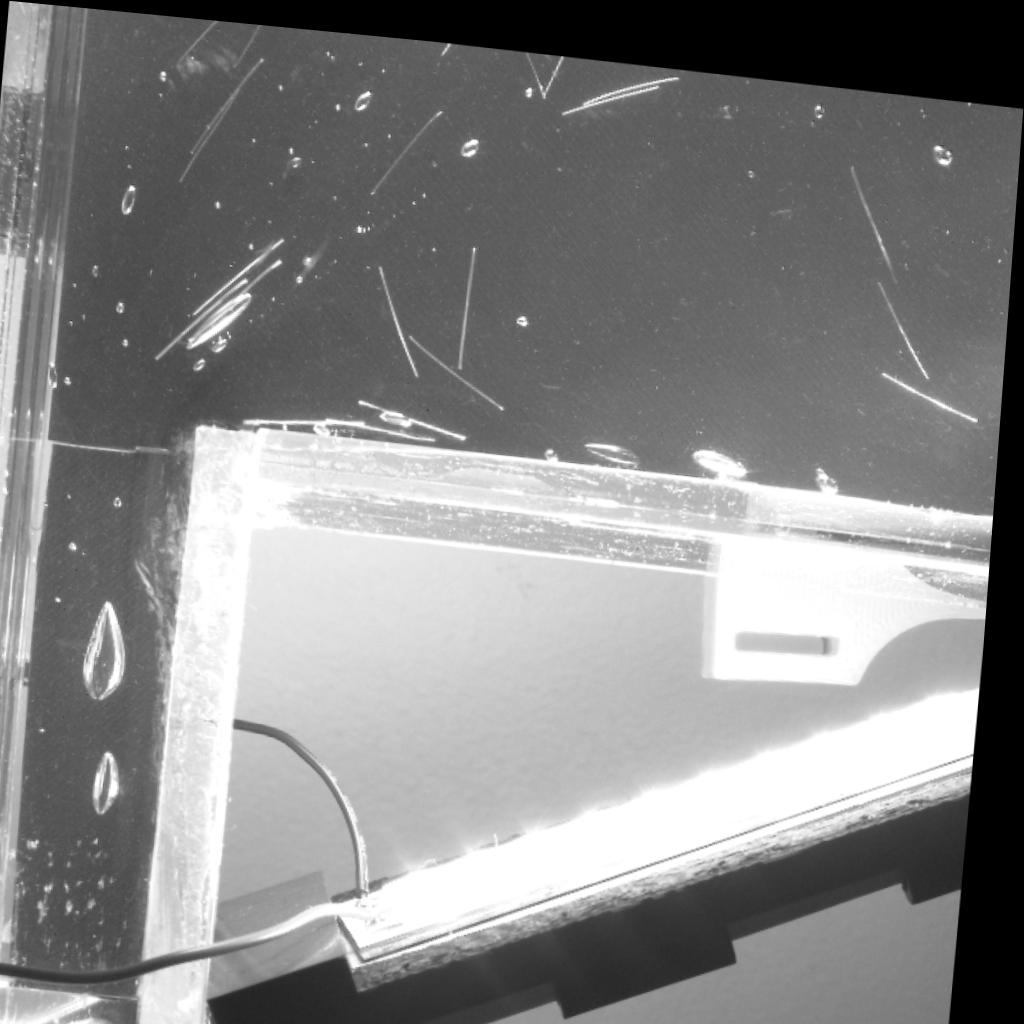Fiber: (409, 318, 515, 405), (189, 249, 287, 343), (157, 269, 253, 359), (194, 224, 290, 309), (189, 47, 268, 149), (846, 145, 908, 268), (368, 95, 450, 188), (175, 80, 245, 186), (877, 347, 997, 408), (875, 261, 941, 363), (375, 251, 430, 371), (363, 387, 478, 434), (579, 56, 683, 96), (562, 68, 662, 107), (326, 406, 445, 437), (461, 229, 485, 363), (174, 16, 219, 63), (228, 19, 265, 68), (247, 408, 374, 421), (523, 41, 549, 88), (542, 43, 566, 83)
